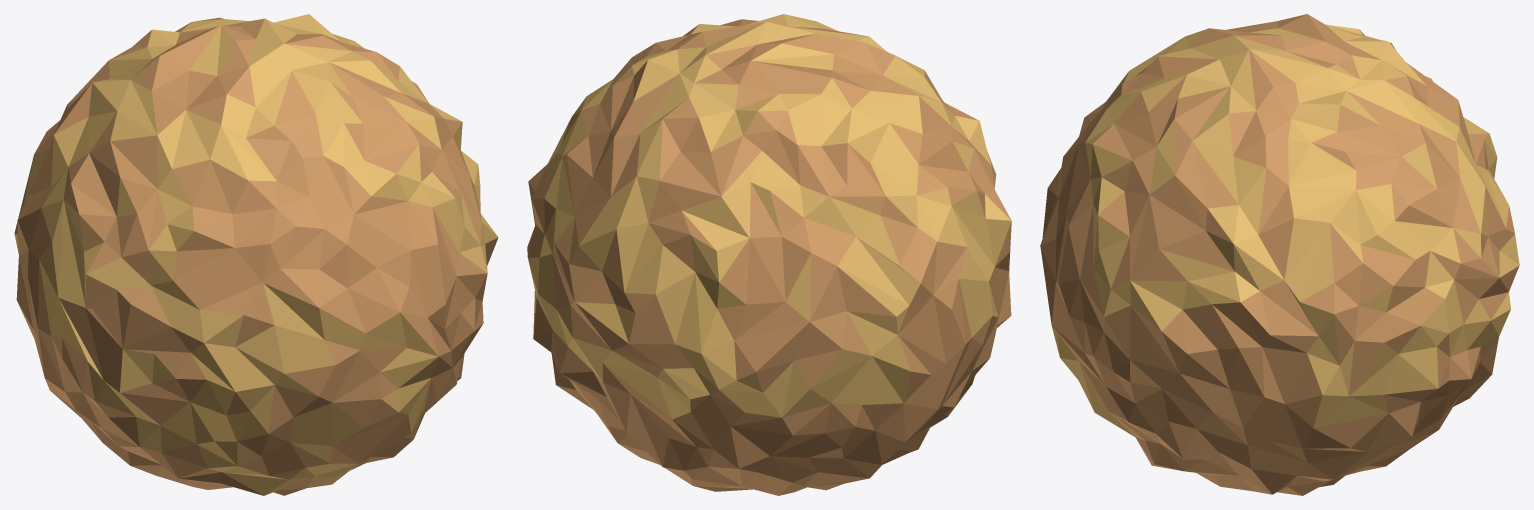
The model's file is Venus.obj.
3 renders of one model, left to right at view 1: azimuth 30°, elevation 25°; view 2: azimuth 150°, elevation 25°; view 3: azimuth 270°, elevation 25°, orthographic. The views are drawn at different scales.
Parts seen in each view (by area): view 1: Venus; view 2: Venus; view 3: Venus.
Boxes of the visible parts, box(x1,y1,x2,y2) form: Venus: box(14, 14, 498, 495); Venus: box(527, 14, 1011, 495); Venus: box(1040, 14, 1519, 495).
Bounding box in the file's own units: 35.03 × 35.06 × 35.29.
